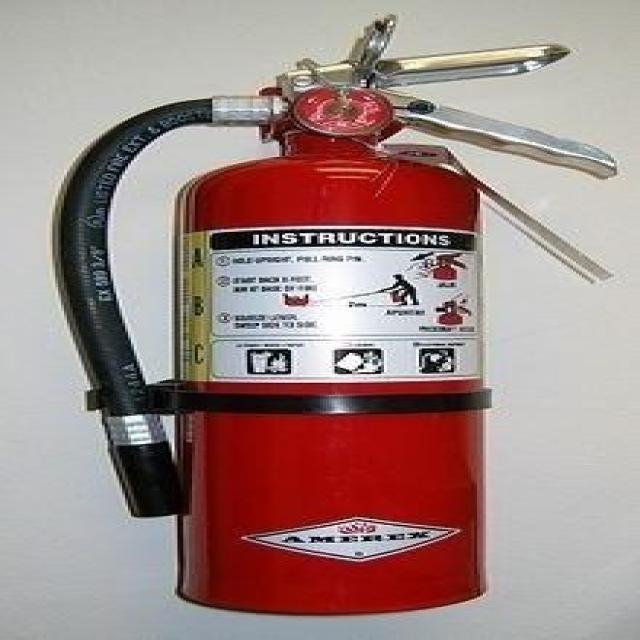Fire-Extinguisher: (53, 12, 616, 614)
